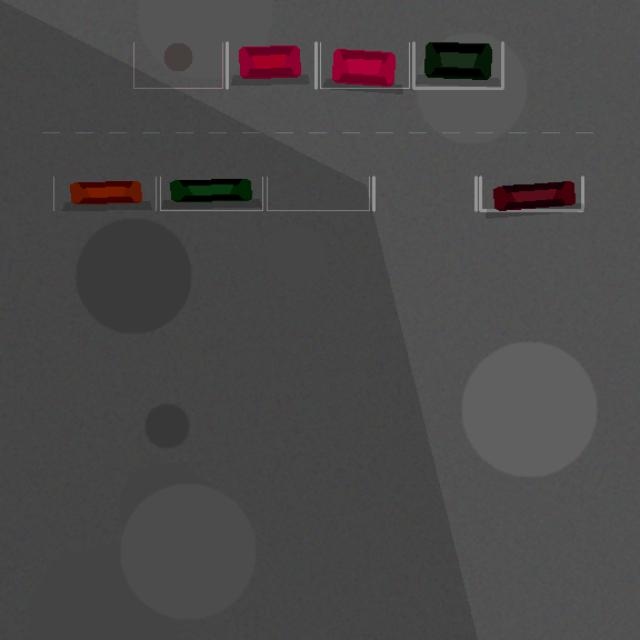space-empty: (133, 42, 222, 88), (373, 177, 476, 210), (267, 177, 369, 210)
space-occupied: (227, 42, 316, 88), (320, 42, 409, 88), (413, 42, 502, 88), (53, 177, 156, 210), (160, 177, 262, 210), (480, 177, 582, 210)
